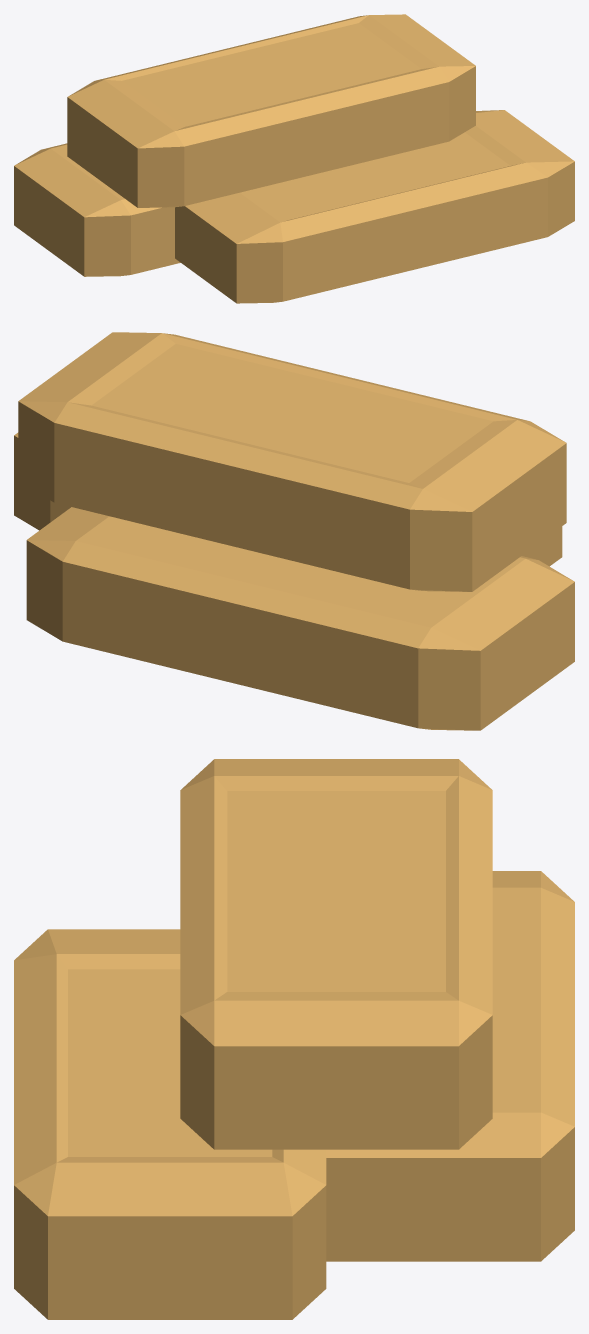
The model's file is kultaharkot.fbx.
3 views of the same model, one above another, from view 1: azimuth 30°, elevation 25°; view 2: azimuth 150°, elevation 25°; view 3: azimuth 270°, elevation 25° (orthographic). The views are drawn at different scales.
Parts seen in each view (by area): view 1: Cube, Cube.002, Cube.001; view 2: Cube, Cube.001, Cube.002; view 3: Cube, Cube.002, Cube.001.
Boxes of the visible parts, box(x1,y1,x2,y2) form: Cube: box(67, 14, 475, 207); Cube.002: box(175, 110, 574, 303); Cube.001: box(14, 143, 180, 276); Cube: box(18, 332, 566, 591); Cube.001: box(26, 507, 574, 730); Cube.002: box(14, 432, 562, 566); Cube: box(180, 759, 492, 1149); Cube.002: box(14, 929, 326, 1319); Cube.001: box(326, 871, 574, 1261).
Size of the model in its own units: 53.55 by 18.91 by 35.7.
